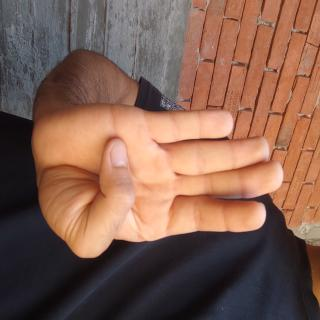KAAF: (67, 44, 199, 320)
